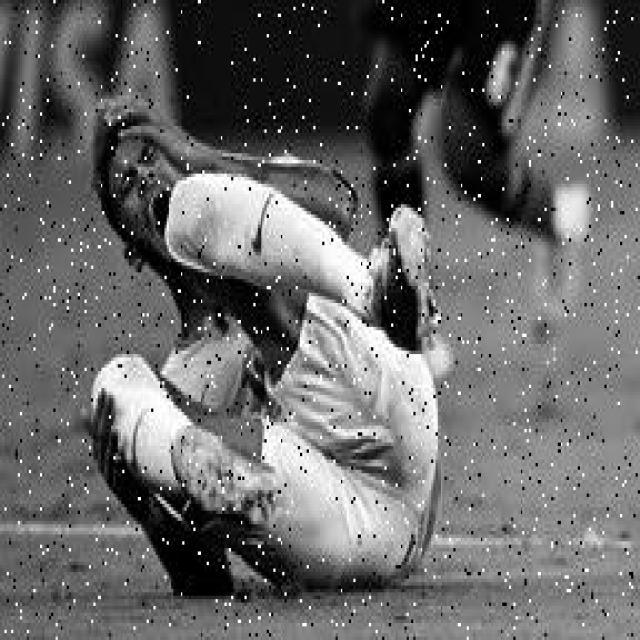fall: (74, 89, 442, 588)
